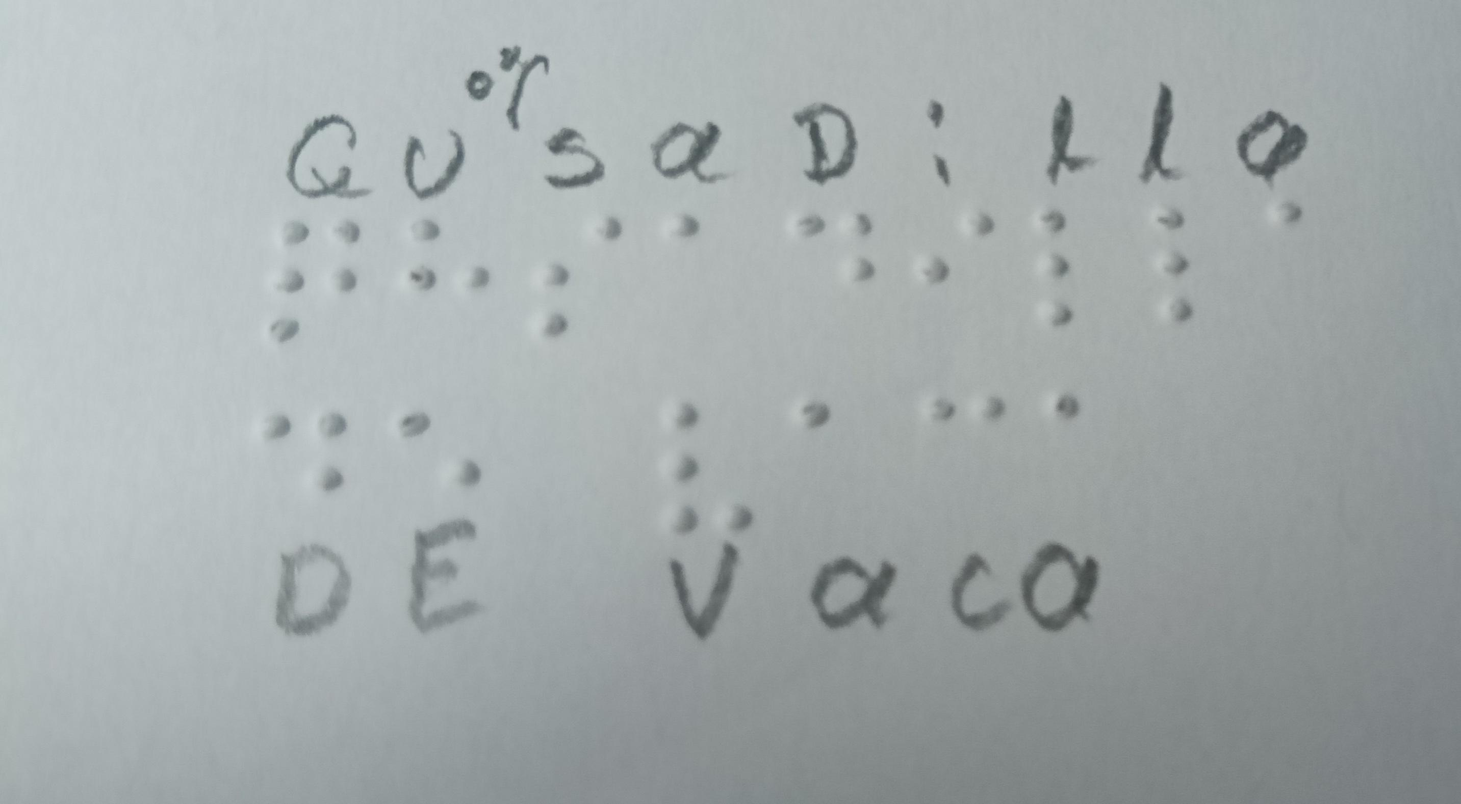a: (1030, 384, 1154, 535), (773, 379, 882, 539), (1232, 189, 1343, 327), (644, 189, 732, 354)
c: (901, 381, 1021, 539)
d: (238, 389, 371, 522), (779, 189, 894, 331)
e: (382, 389, 501, 513)
h: (393, 208, 504, 327)
i: (904, 189, 1000, 318)
l: (1125, 203, 1224, 358), (1018, 192, 1097, 344)
q: (253, 213, 372, 361)
s: (518, 206, 628, 344)
v: (636, 393, 774, 544)
